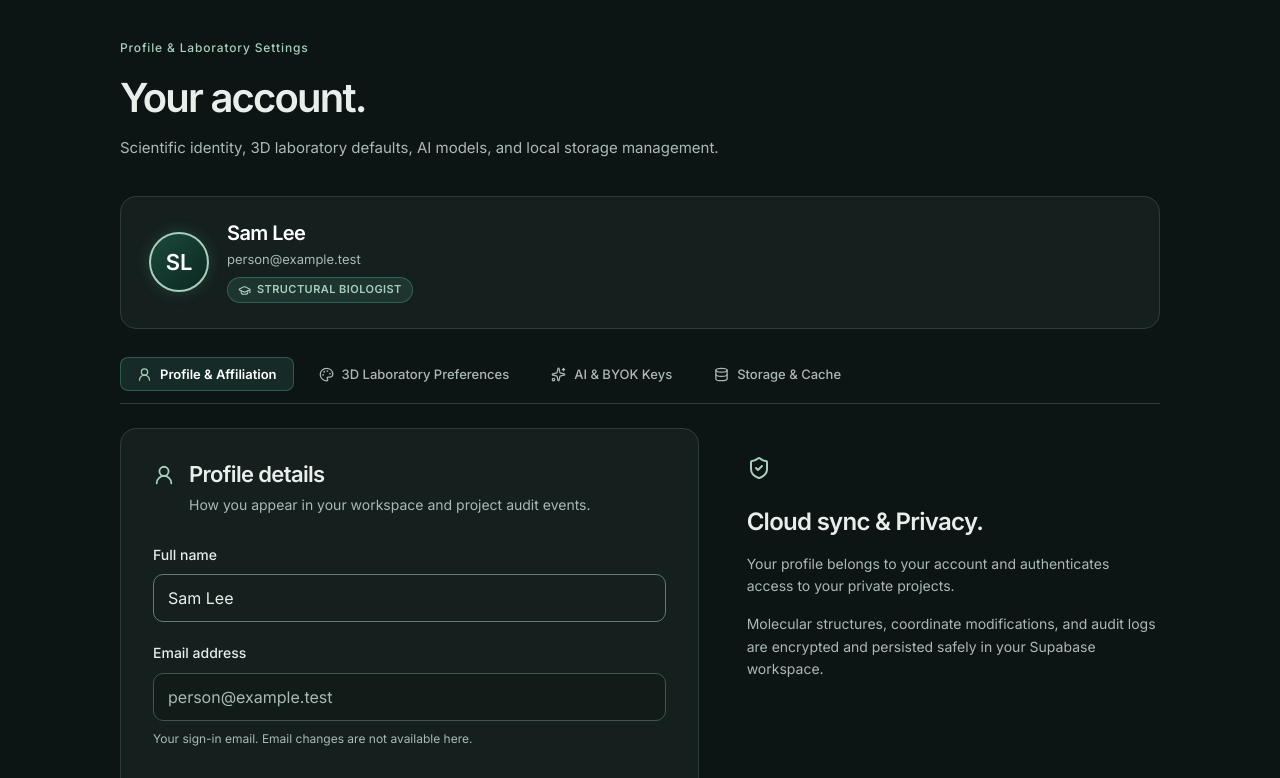
soft platform screens › updates the name, keeps email read-only, and reports logout errors
This screenshot has width=1280, height=778.
Replace the text in the field labelled "Full name" with "Sam Updated" at {"x": 409, "y": 598}, box [153,574,666,622]
(page scrolled)
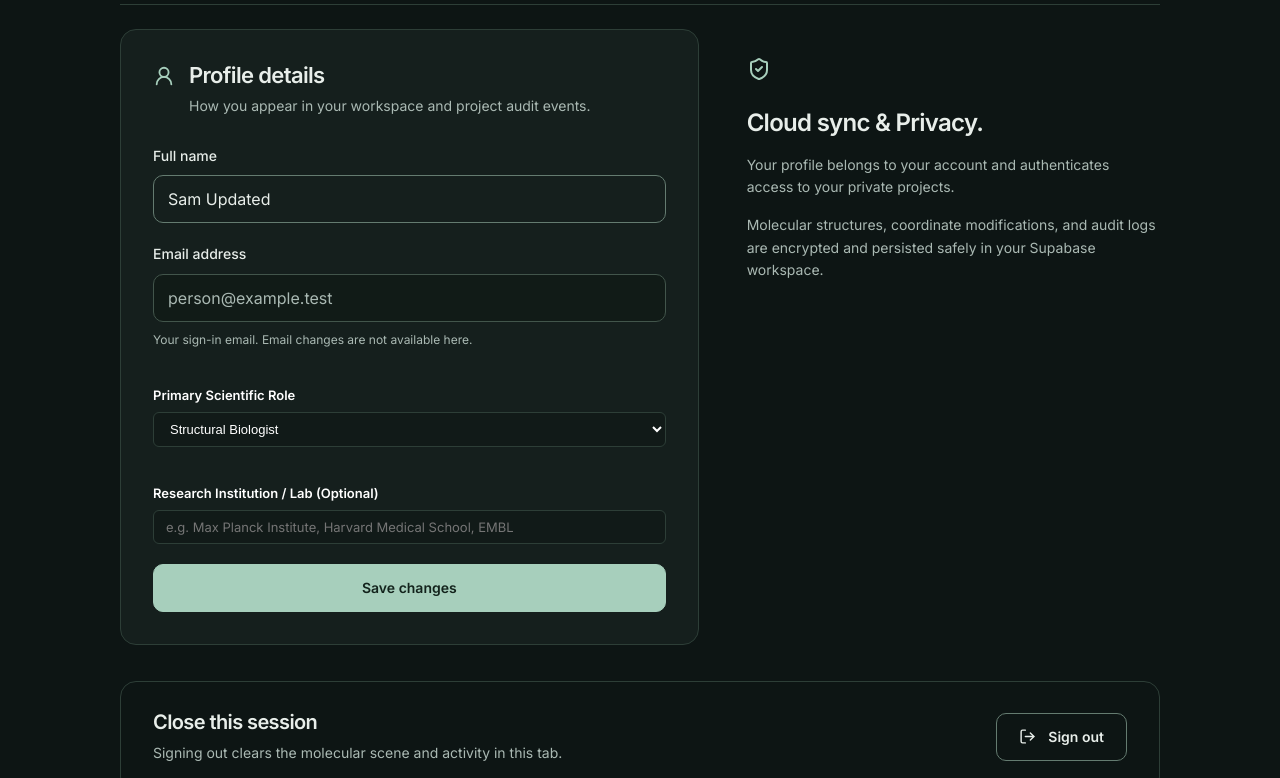
Submit the form named "Profile details", box [153,145,666,612]
(page scrolled)
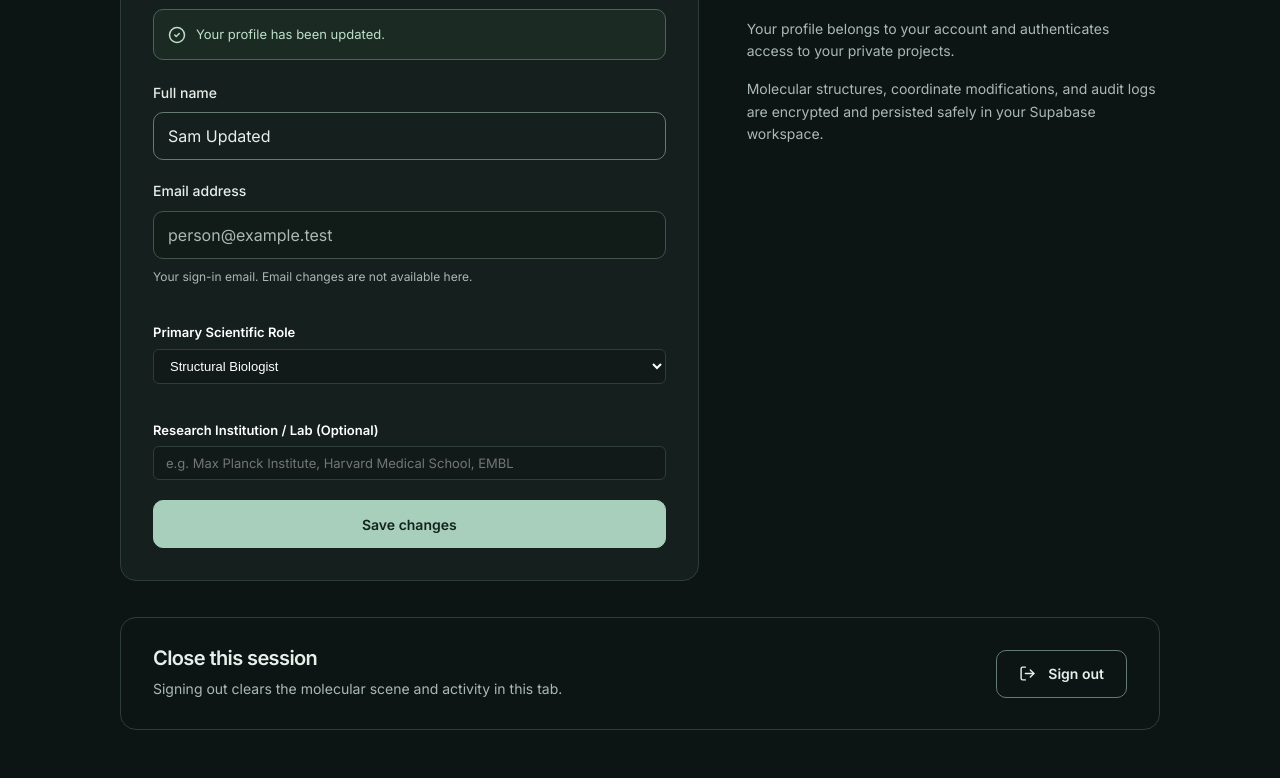
Expected: the message shows "Your profile has been updated", [196,26,385,42]
Click the button "Sign out" at {"x": 1062, "y": 674}, box [996,650,1127,698]
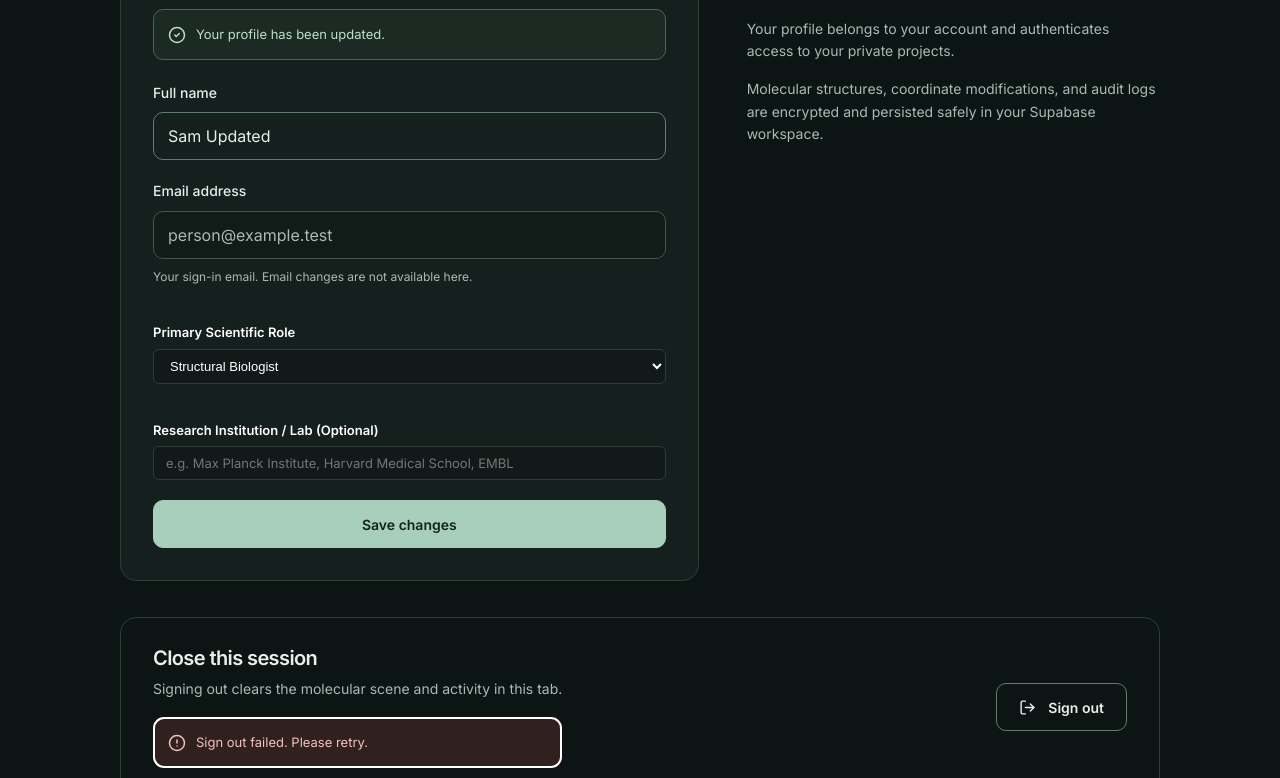
Expected: the message "Sign out failed. Please retry." is shown, [153,717,562,768]
